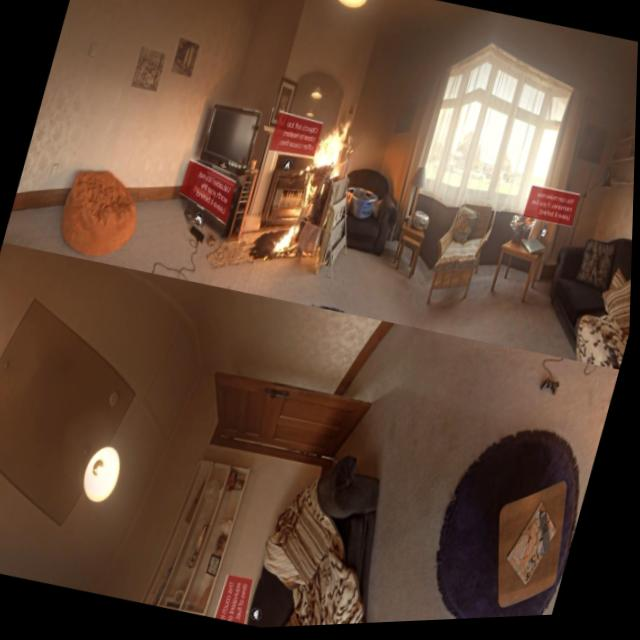fire: (269, 109, 361, 271)
